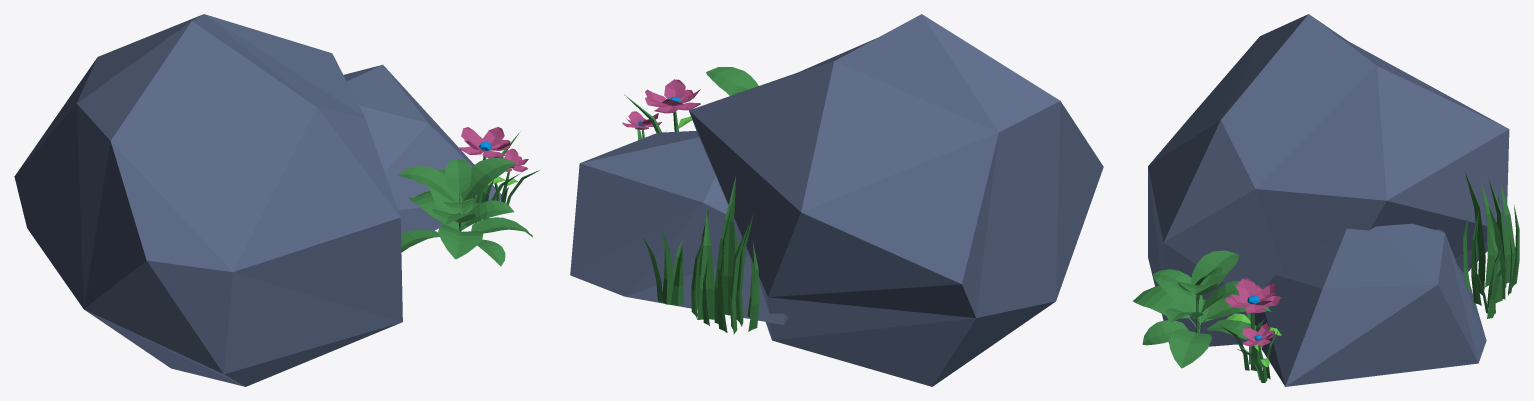
File: Rock05.fbx
3 views of the same model, side by side, from view 1: azimuth 30°, elevation 25°; view 2: azimuth 150°, elevation 25°; view 3: azimuth 270°, elevation 25° (orthographic). The views are drawn at different scales.
Parts seen in each view (by area): view 1: Rock_05; view 2: Rock_05; view 3: Rock_05.
Part boxes in pixels (left/top/right/bottom): Rock_05: left=14, top=14, right=539, bottom=386; Rock_05: left=570, top=14, right=1103, bottom=386; Rock_05: left=1133, top=14, right=1519, bottom=386.
Size of the model in its own units: 164 by 127 by 134.
